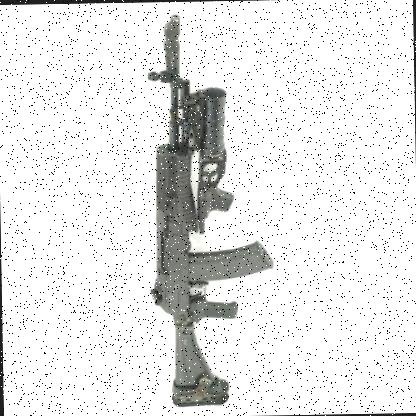rifle: (122, 6, 289, 409)
